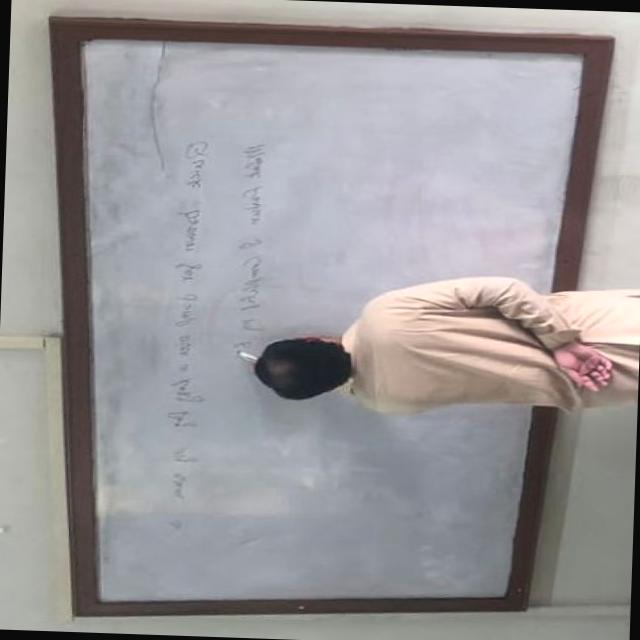Instructor: (244, 277, 624, 411)
White-board: (56, 21, 598, 608)
